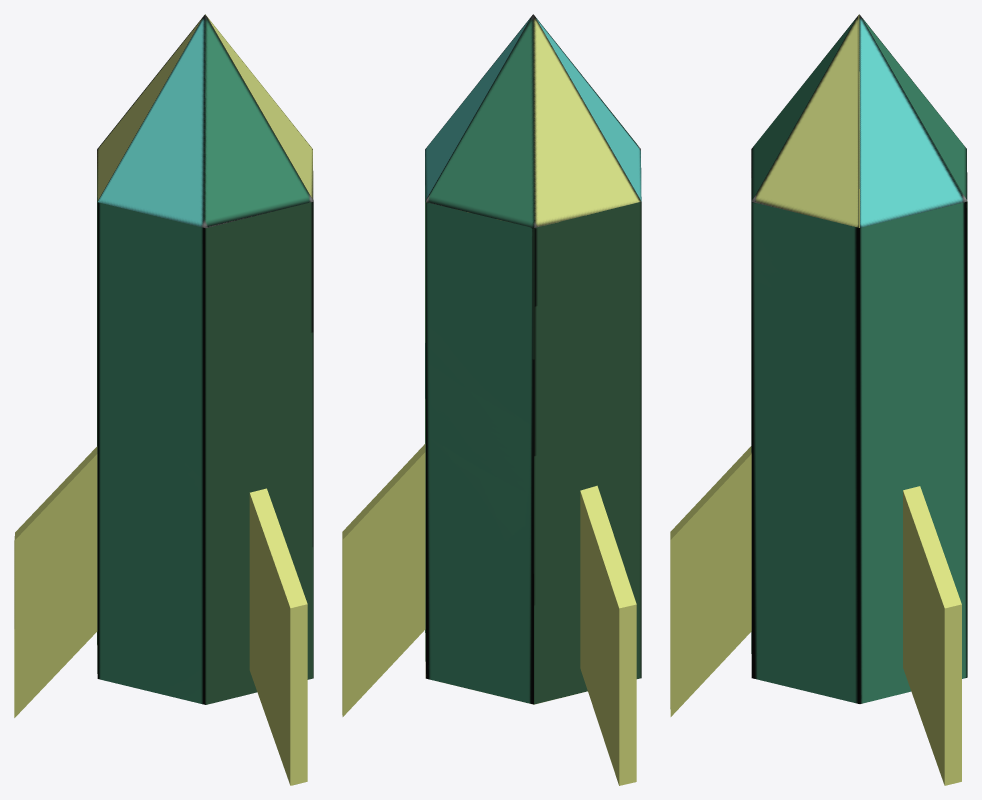
The model's file is Missil.fbx.
3 renders of one model, left to right at view 1: azimuth 30°, elevation 25°; view 2: azimuth 150°, elevation 25°; view 3: azimuth 270°, elevation 25°, orthographic.
Visible parts, largest first — view 1: Cone; view 2: Cone; view 3: Cone.
Part boxes in pixels (x1,y1,x2,y2): Cone: (14,14,313,785); Cone: (342,14,641,785); Cone: (670,14,967,785).
Bounding box in the file's own units: 477 × 1082 × 416.
1 material, 1 textured.
